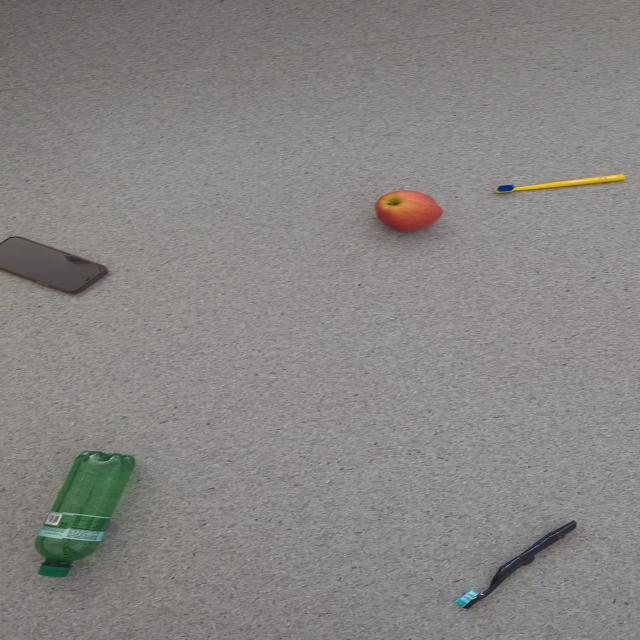apple: (373, 190, 442, 231)
bottle: (33, 450, 136, 578)
phone: (0, 235, 108, 294)
toothbrush: (453, 520, 578, 610), (494, 173, 627, 194)
